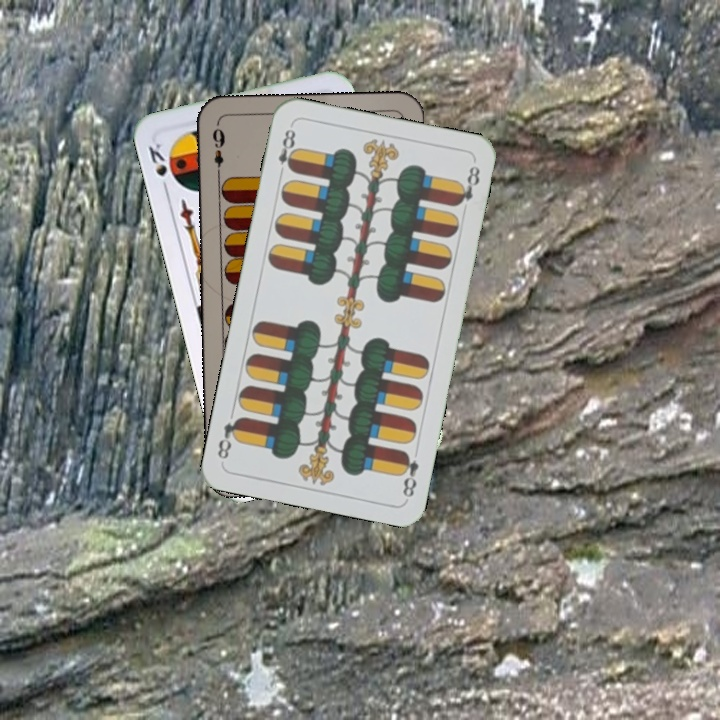E8: (274, 125, 300, 180), (396, 447, 421, 500)
E9: (208, 124, 227, 180)
SK: (144, 139, 171, 196)
